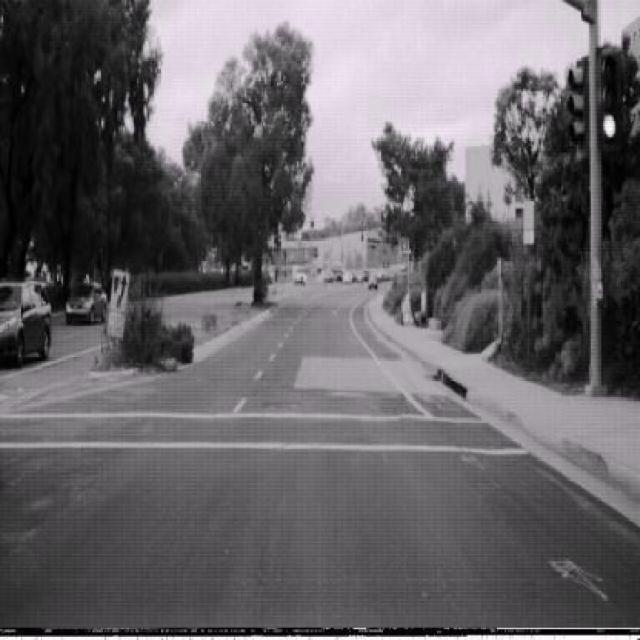keepRight: (109, 268, 131, 314)
